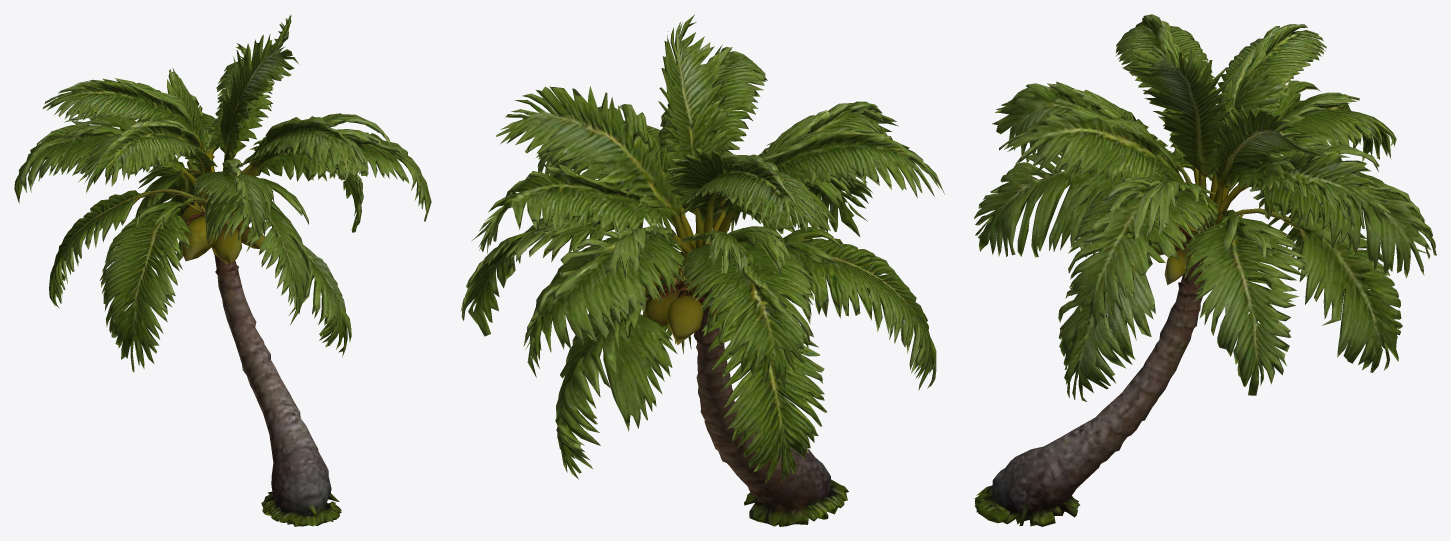
File: palm_b.glb
3 renders of one model, left to right at view 1: azimuth 30°, elevation 25°; view 2: azimuth 150°, elevation 25°; view 3: azimuth 270°, elevation 25°, orthographic. The views are drawn at different scales.
Visible parts, largest first — view 1: tripo_node_cf085d33-2a5f-4207-b26a-1df35c2cc51c; view 2: tripo_node_cf085d33-2a5f-4207-b26a-1df35c2cc51c; view 3: tripo_node_cf085d33-2a5f-4207-b26a-1df35c2cc51c.
Part boxes in pixels (x1,y1,x2,y2): tripo_node_cf085d33-2a5f-4207-b26a-1df35c2cc51c: (14, 14, 431, 526); tripo_node_cf085d33-2a5f-4207-b26a-1df35c2cc51c: (460, 14, 944, 526); tripo_node_cf085d33-2a5f-4207-b26a-1df35c2cc51c: (974, 14, 1436, 526).
Bounding box in the file's own units: 0.8182 × 1 × 0.8623.
1 material, 1 textured.
